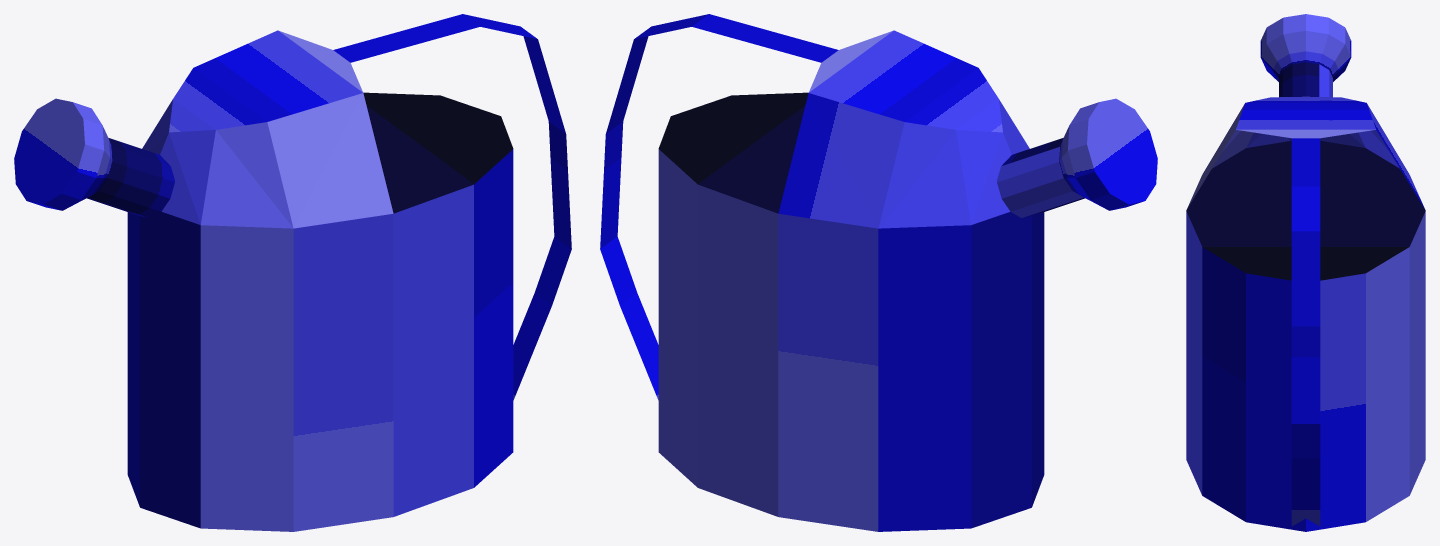
Rendered from bucket_810x06.gltf.
The picture shows the model from 3 angles, left to right: view 1: azimuth 30°, elevation 25°; view 2: azimuth 150°, elevation 25°; view 3: azimuth 270°, elevation 25°; orthographic projection. The views are drawn at different scales.
Parts seen in each view (by area): view 1: bucket_810x06; view 2: bucket_810x06; view 3: bucket_810x06.
Part boxes in pixels (box(x1,y1,x2,y2)): bucket_810x06: box(14, 14, 571, 531); bucket_810x06: box(600, 14, 1157, 531); bucket_810x06: box(1186, 14, 1425, 531).
Size of the model in its own units: 1.2 by 0.9006 by 0.5644.
Materials: 1 (1 with a texture image).
